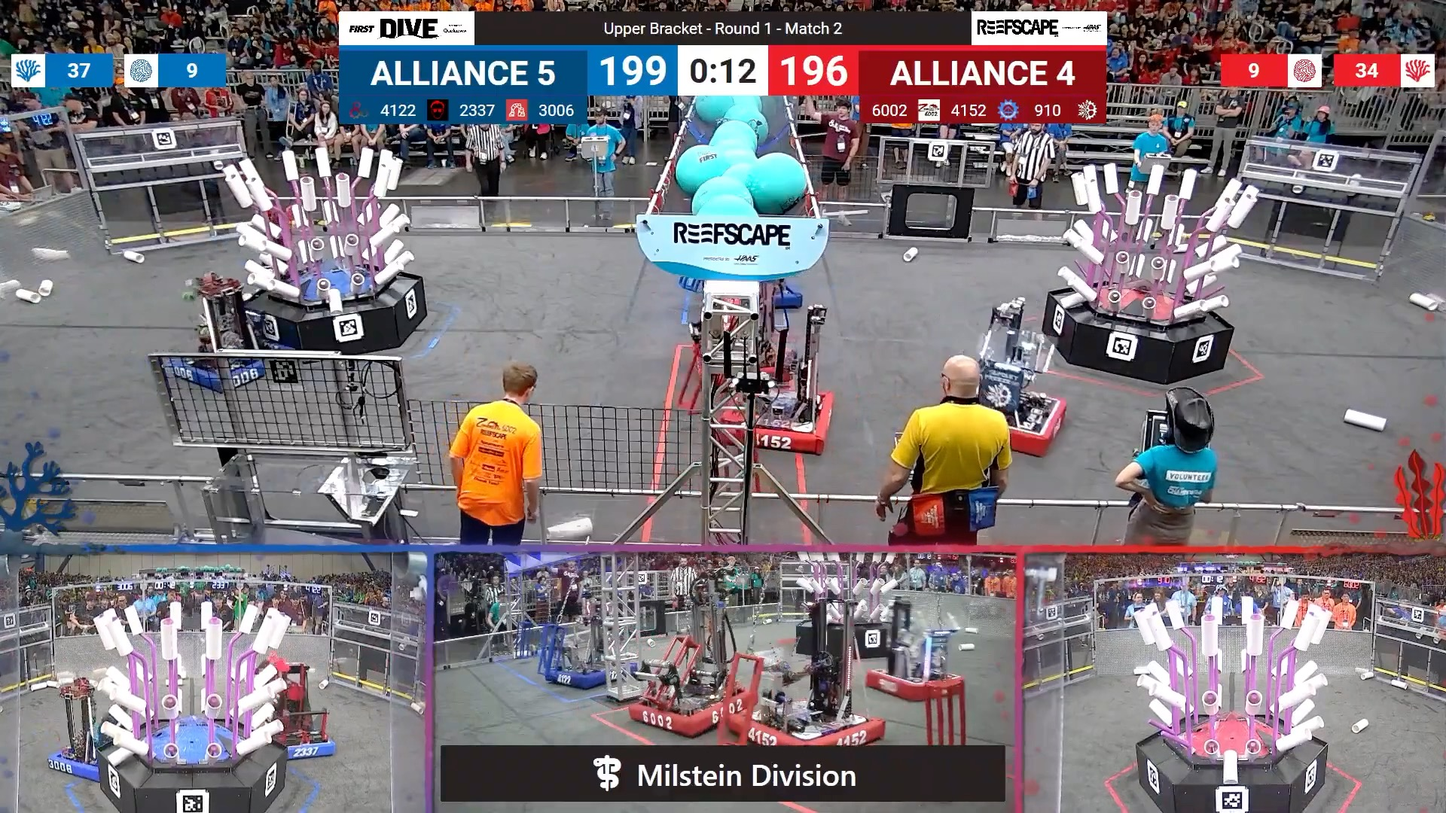bumpers: (727, 388, 839, 455), (978, 385, 1072, 460), (157, 349, 281, 394), (737, 711, 886, 747), (624, 689, 749, 731), (45, 737, 136, 781), (862, 668, 962, 700), (267, 719, 340, 762), (537, 661, 621, 690), (753, 280, 807, 309)
